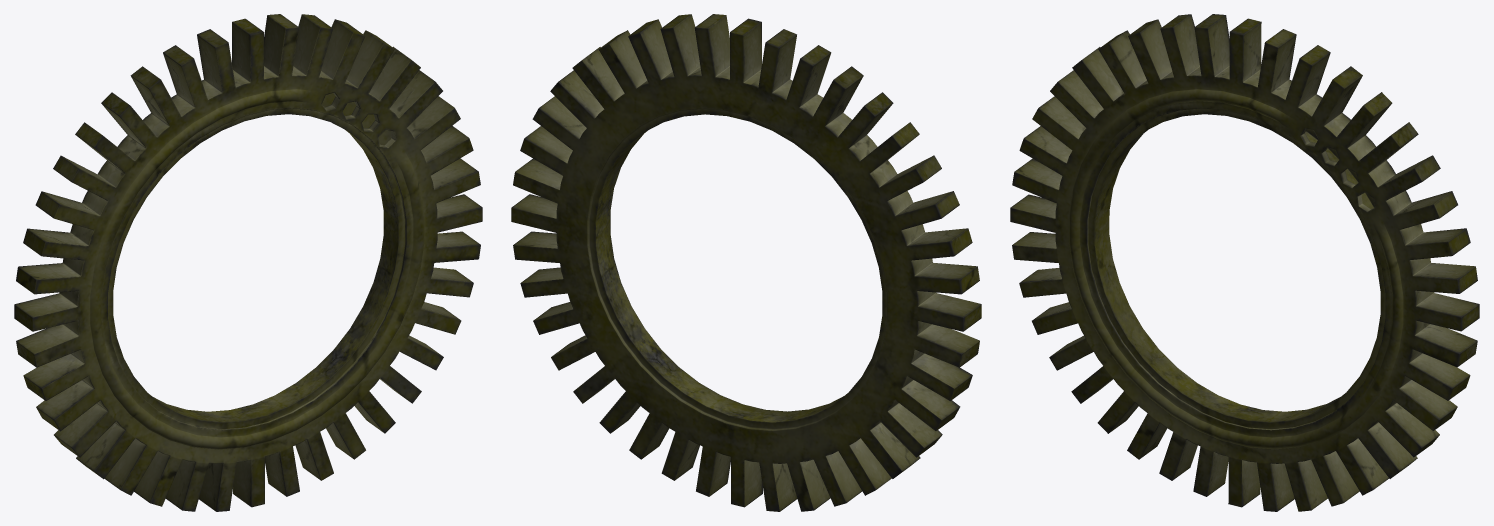
Rendered from maingear.fbx.
The picture shows the model from 3 angles, left to right: view 1: azimuth 30°, elevation 25°; view 2: azimuth 150°, elevation 25°; view 3: azimuth 330°, elevation 25°; orthographic projection.
Parts seen in each view (by area): view 1: gear45; view 2: gear45; view 3: gear45.
Part boxes in pixels (x1=…): gear45: x1=14, y1=14, x2=482, y2=511; gear45: x1=511, y1=14, x2=981, y2=511; gear45: x1=1010, y1=14, x2=1479, y2=511.
Size of the model in its own units: 217 by 217 by 17.1.
1 material, 1 textured.
